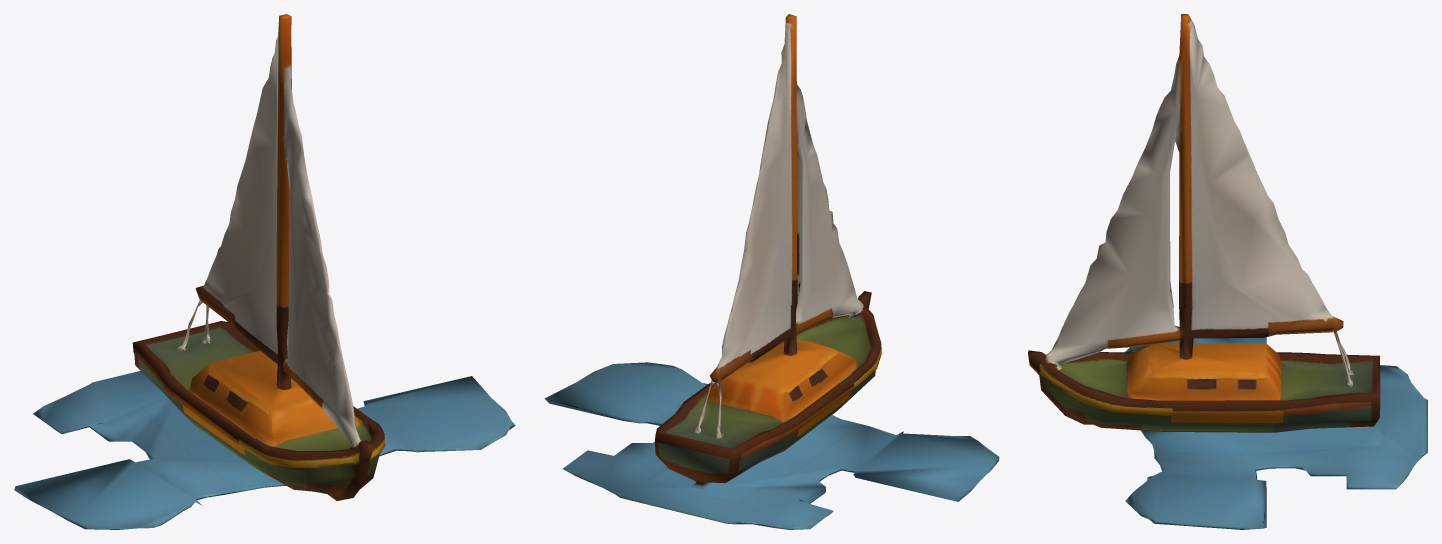
Rendered from demo_sailboat_pixel.glb.
3 views of the same model, side by side, from view 1: azimuth 30°, elevation 25°; view 2: azimuth 150°, elevation 25°; view 3: azimuth 270°, elevation 25° (orthographic). The views are drawn at different scales.
Visible parts, largest first — view 1: tripo_node_c0a82a6a-9e04-4dc2-b27c-b823691790e3.001; view 2: tripo_node_c0a82a6a-9e04-4dc2-b27c-b823691790e3.001; view 3: tripo_node_c0a82a6a-9e04-4dc2-b27c-b823691790e3.001.
Part boxes in pixels (left/top/right/bottom): tripo_node_c0a82a6a-9e04-4dc2-b27c-b823691790e3.001: left=14, top=14, right=515, bottom=529; tripo_node_c0a82a6a-9e04-4dc2-b27c-b823691790e3.001: left=544, top=14, right=999, bottom=529; tripo_node_c0a82a6a-9e04-4dc2-b27c-b823691790e3.001: left=1028, top=14, right=1427, bottom=529.
Size of the model in its own units: 0.993 by 0.9329 by 0.8194.
Materials: 1 (1 with a texture image).
